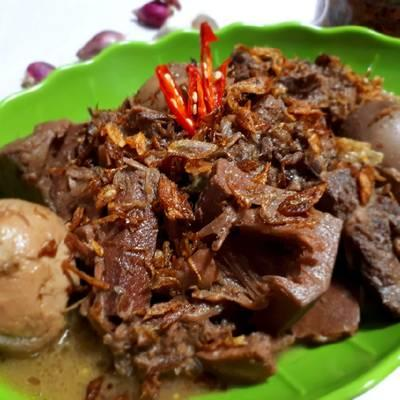gudeg: (1, 43, 400, 379)
